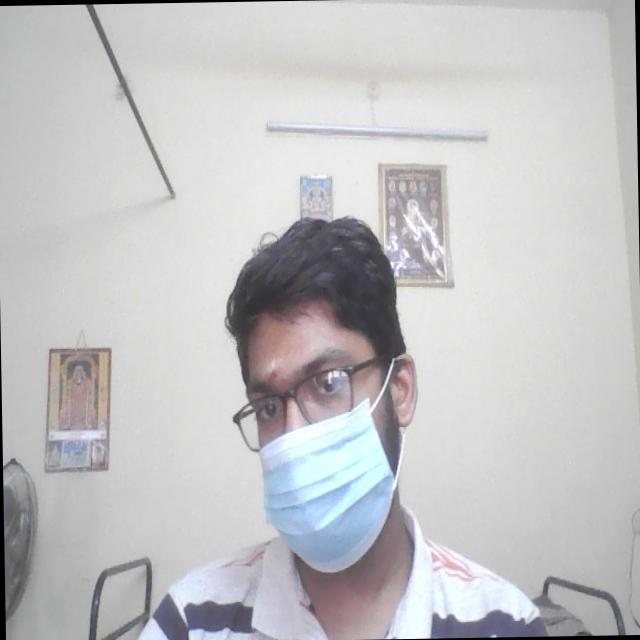Focused: (237, 303, 402, 556)
